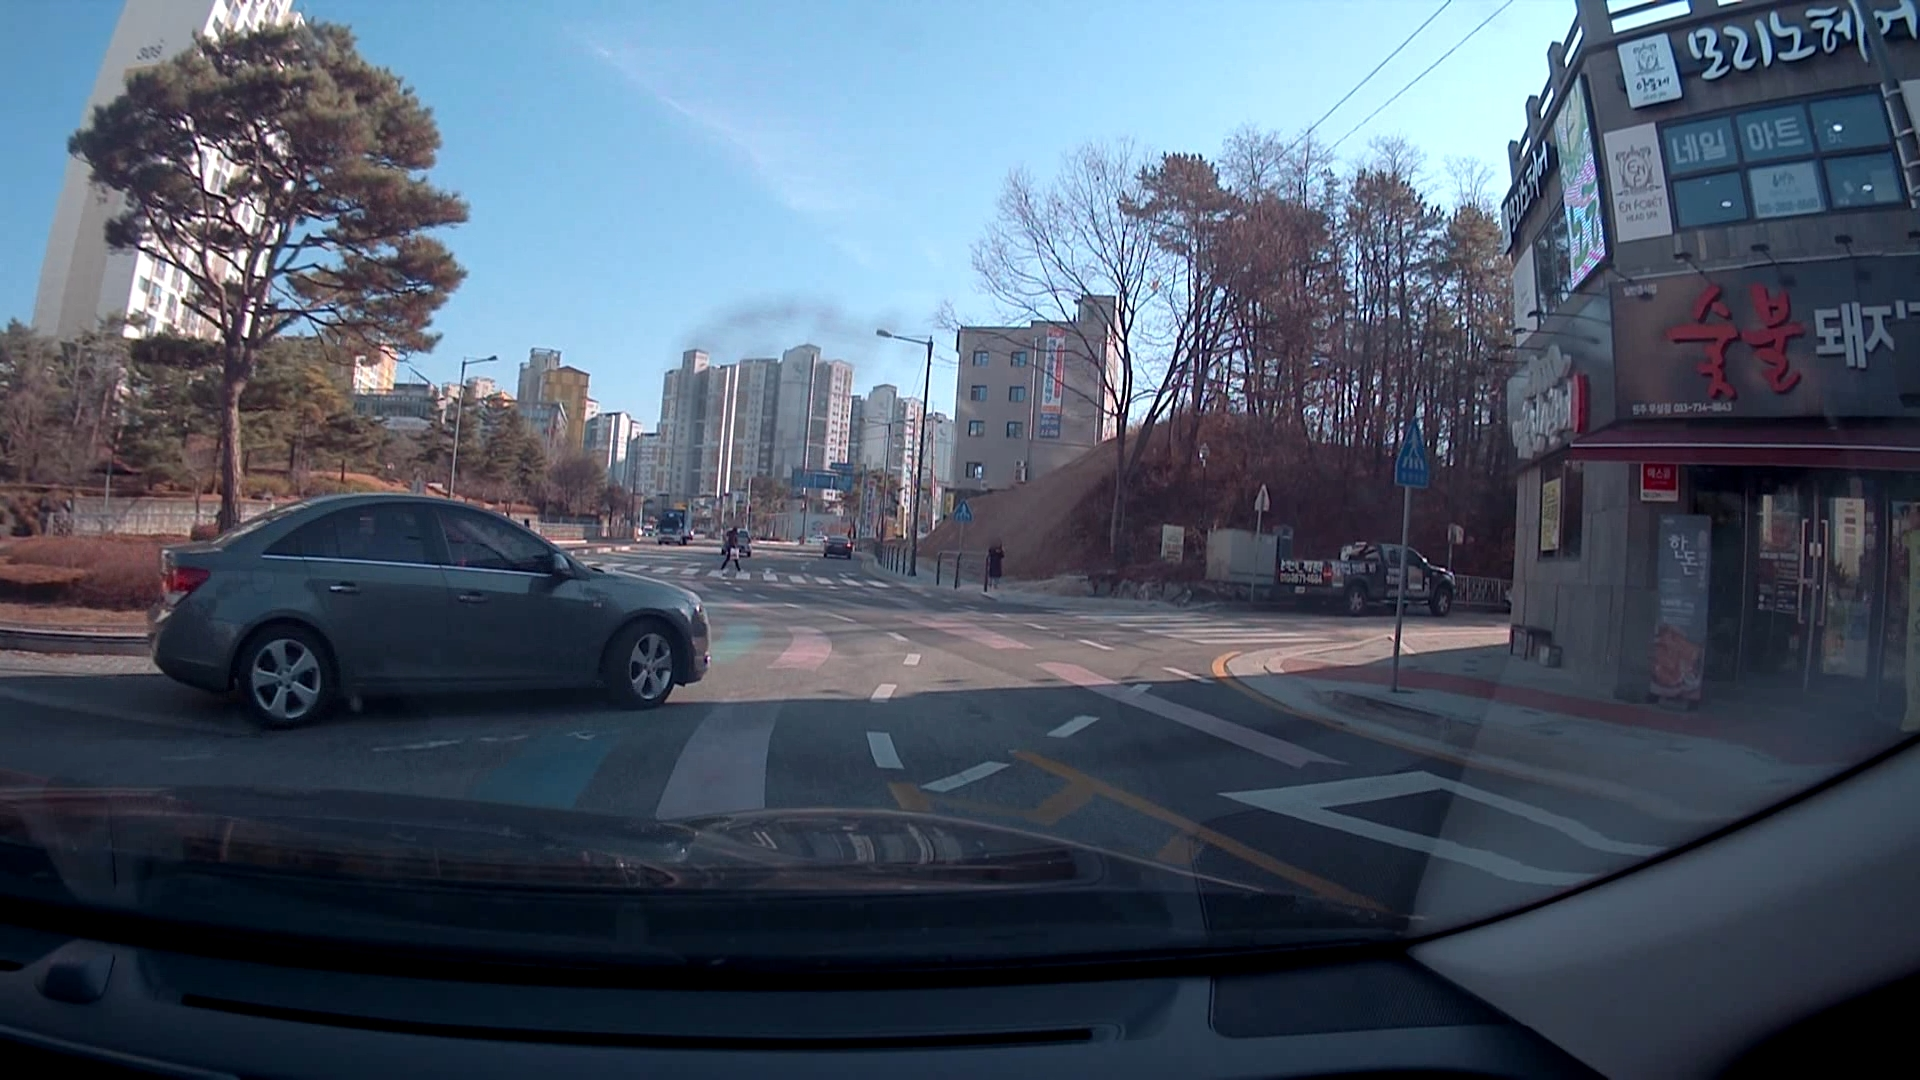trafficSignTri: (1391, 425, 1432, 493), (1251, 484, 1276, 512), (951, 502, 975, 520)
